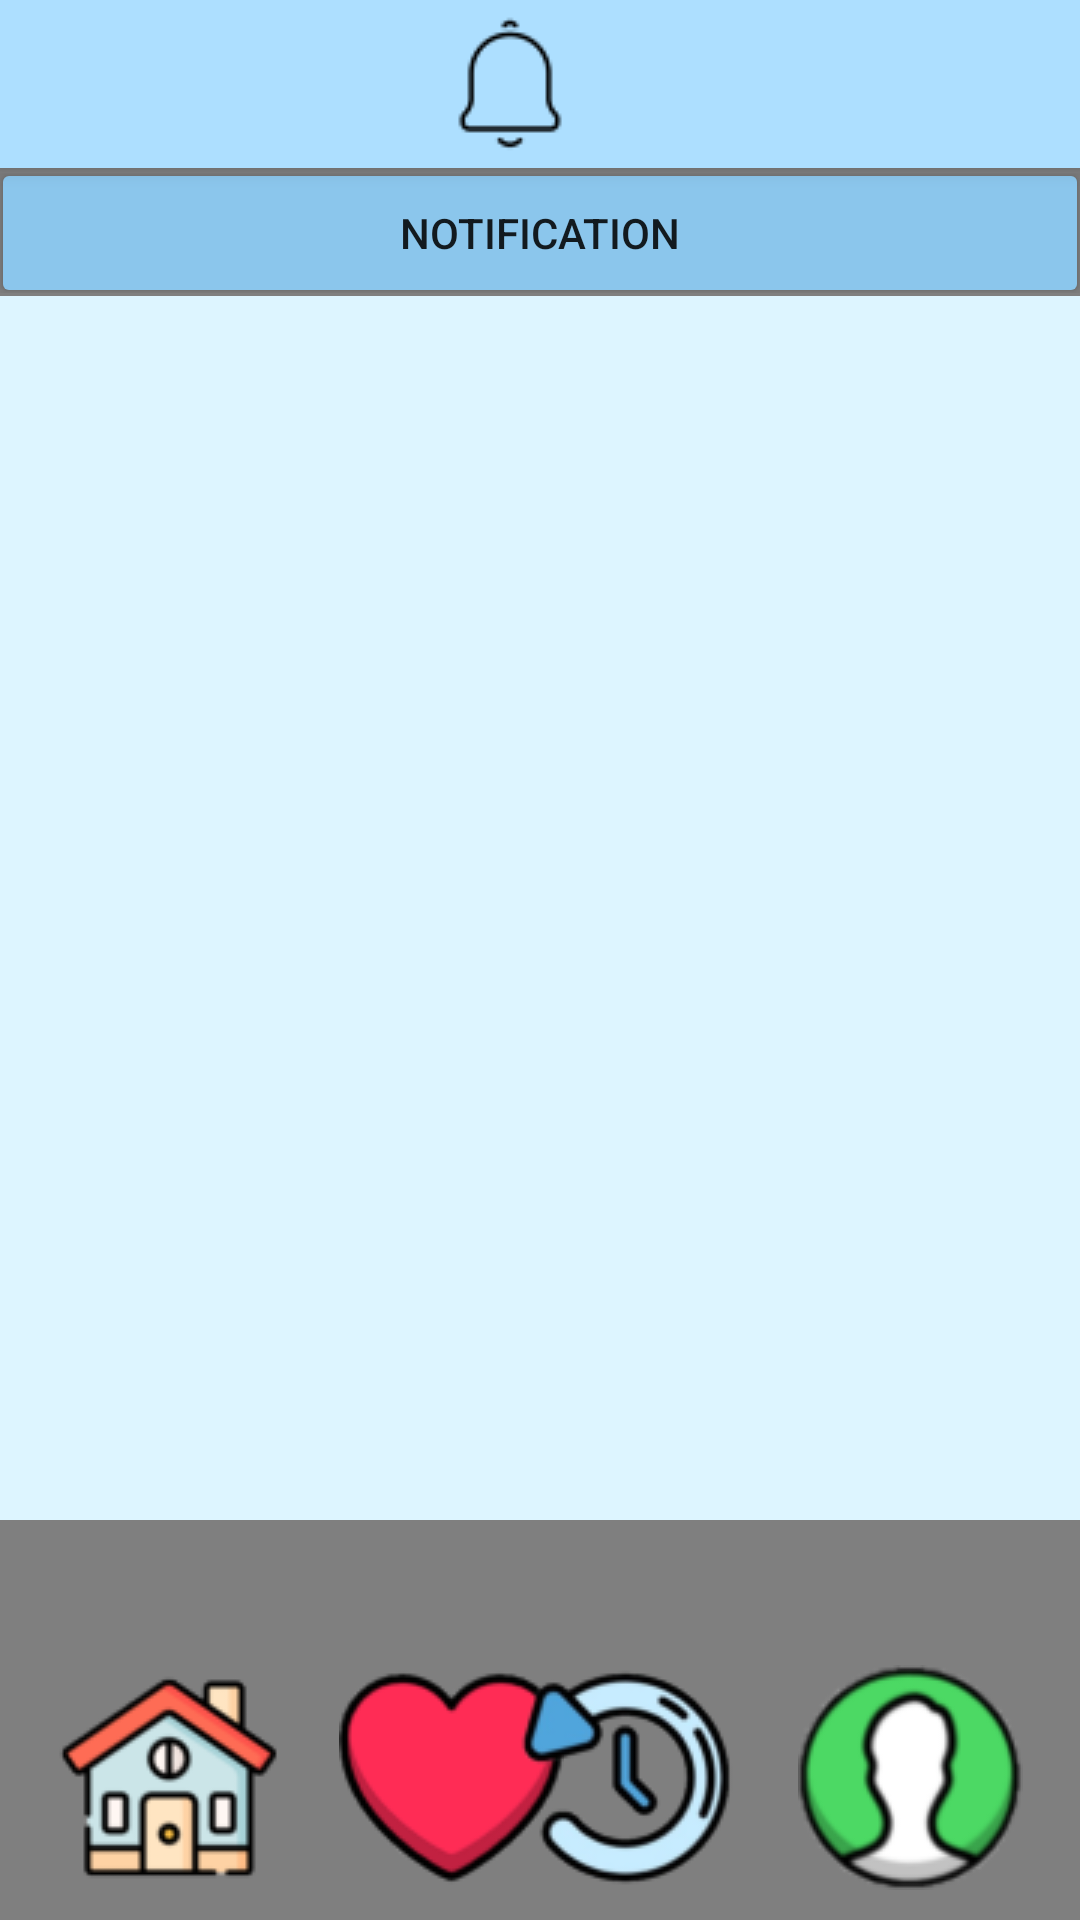

Icon bounding boxes for this 1080px×1920px phone screenshot, format {"left": x1, "top": y1, "right": x2, "bottom": y2}:
heart: {"left": 339, "top": 1673, "right": 564, "bottom": 1882}
history: {"left": 516, "top": 1673, "right": 730, "bottom": 1882}
home: {"left": 62, "top": 1679, "right": 277, "bottom": 1876}
profile: {"left": 798, "top": 1667, "right": 1021, "bottom": 1888}
